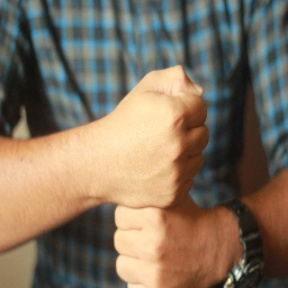G: (90, 65, 219, 288)
